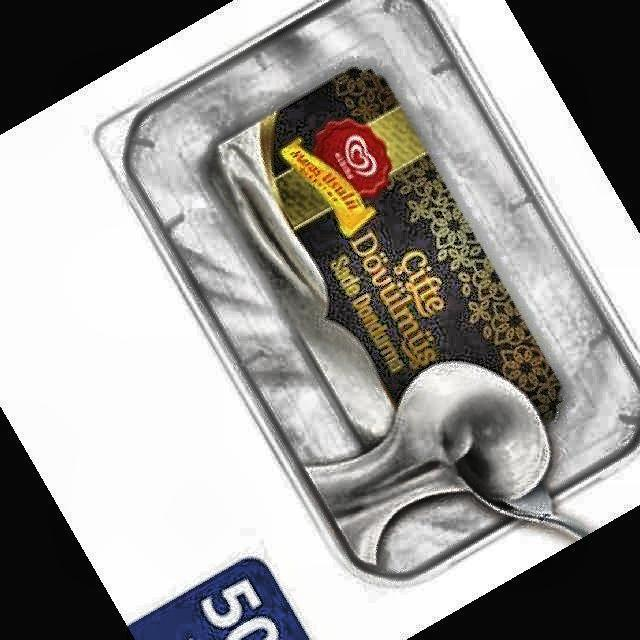plastic: (91, 1, 640, 588)
